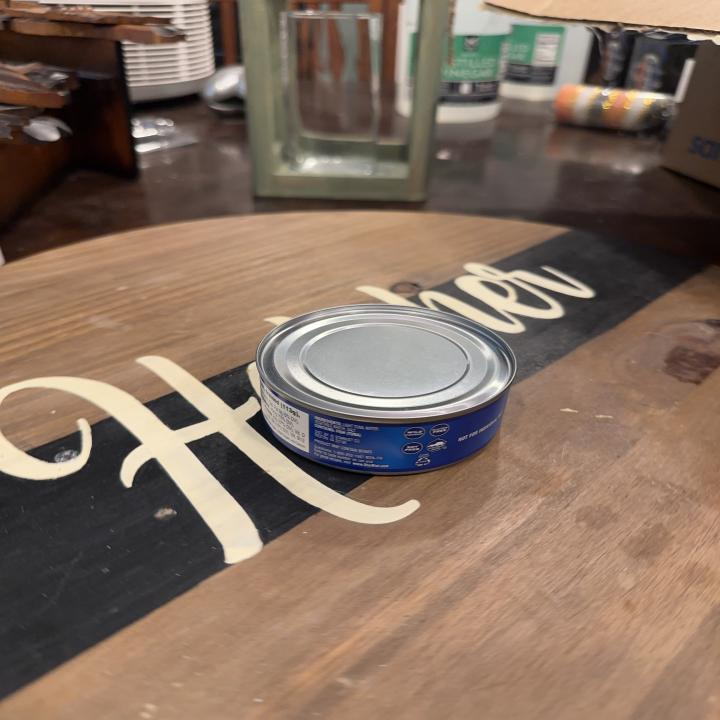Canned-Tuna: (253, 302, 521, 478)
